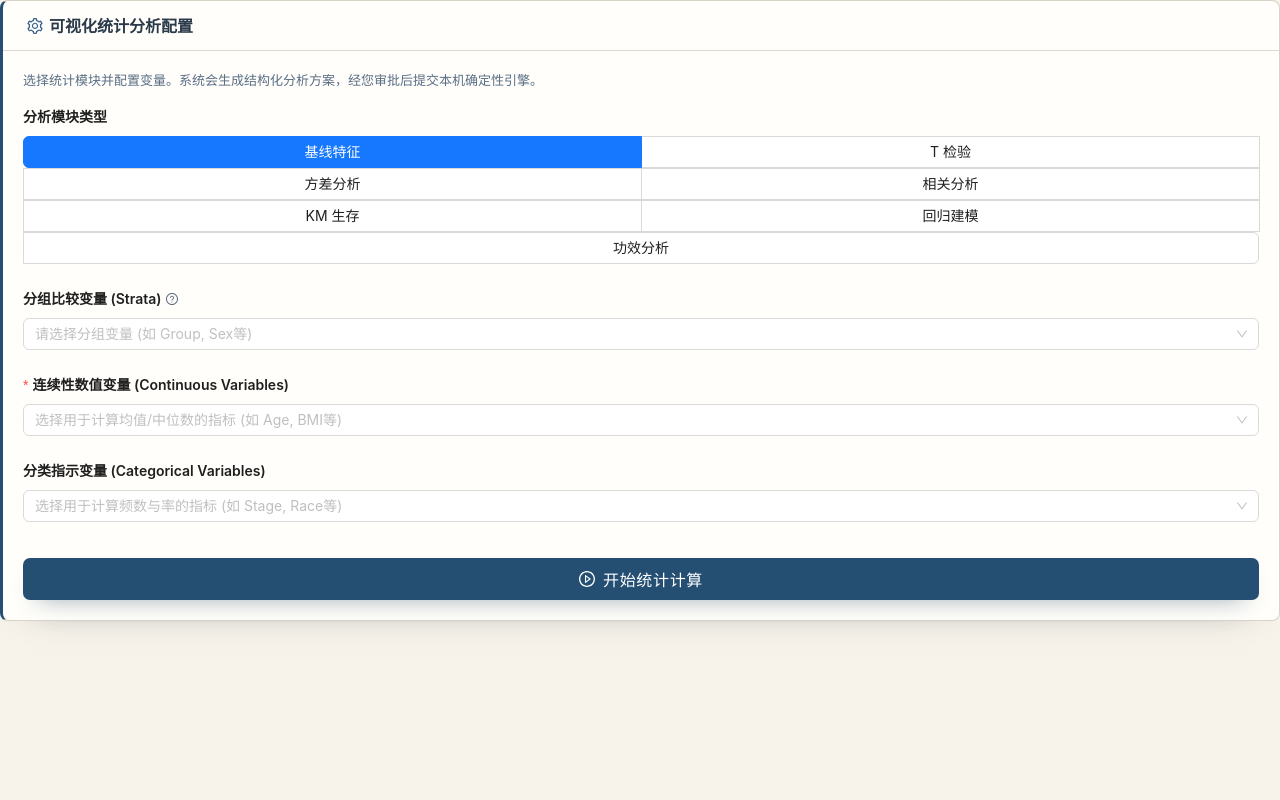
Test case: AnalysisConfigurator › shows ANOVA fields when the module is selected
Click the radio button labelled "方差分析": (332, 184) 23,168 -> 642,200
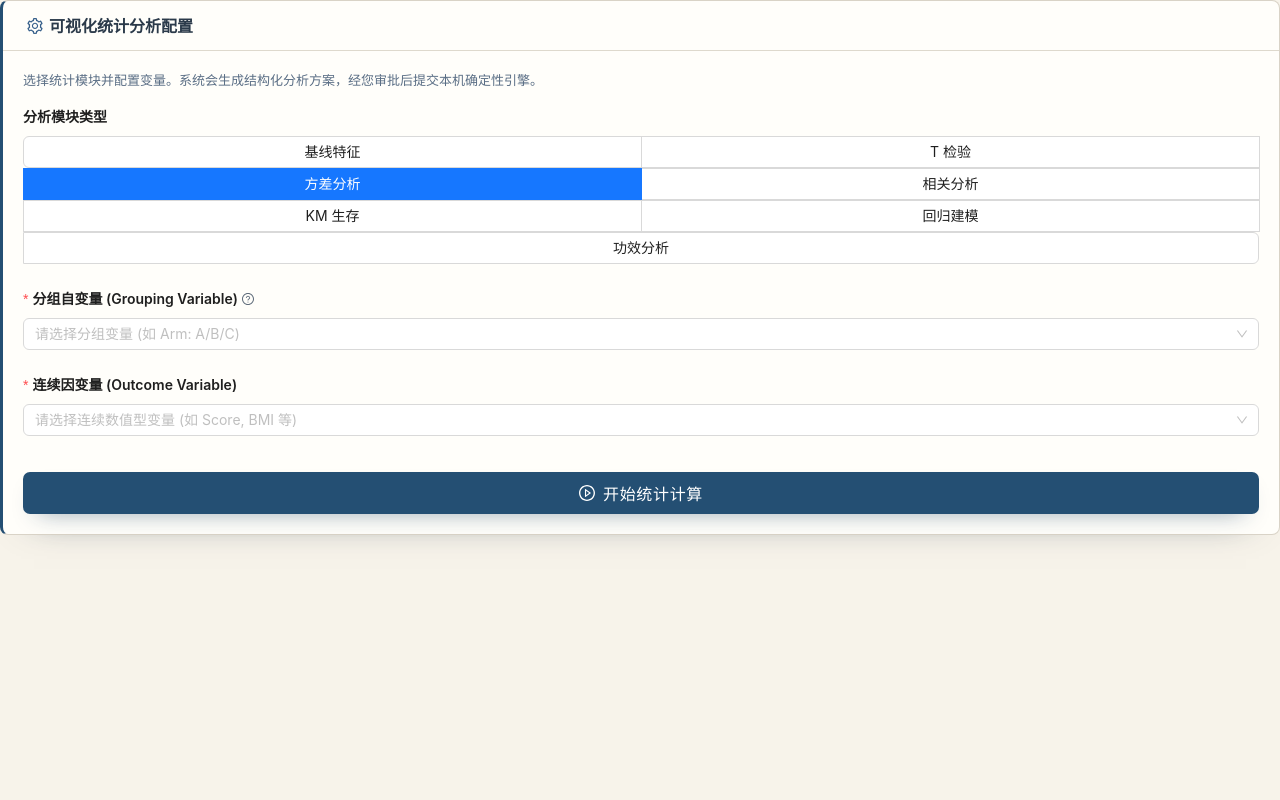
Expected: the dropdown labelled "分组自变量 (Grouping Variable)" is shown, 35,319 -> 1229,349
Result: the dropdown labelled "连续因变量 (Outcome Variable)" is shown at 35,405 -> 1229,435
